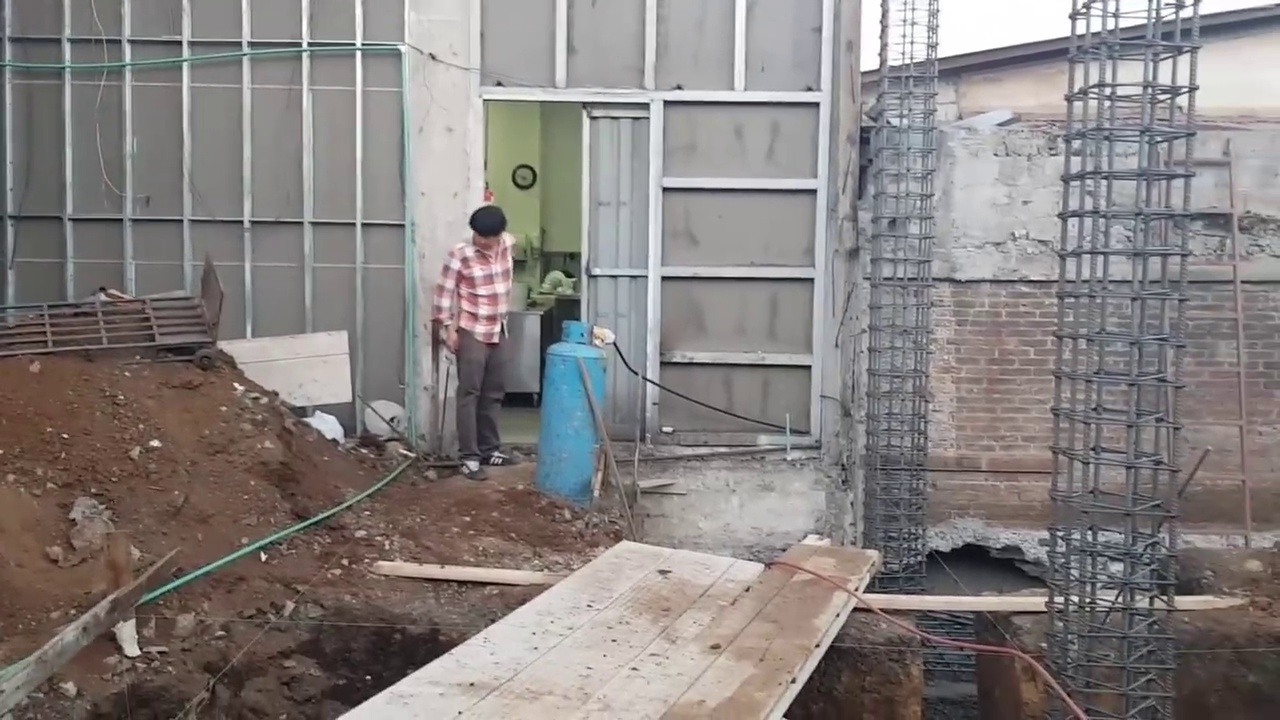helmet-off: (465, 205, 504, 256)
person: (431, 203, 521, 484)
